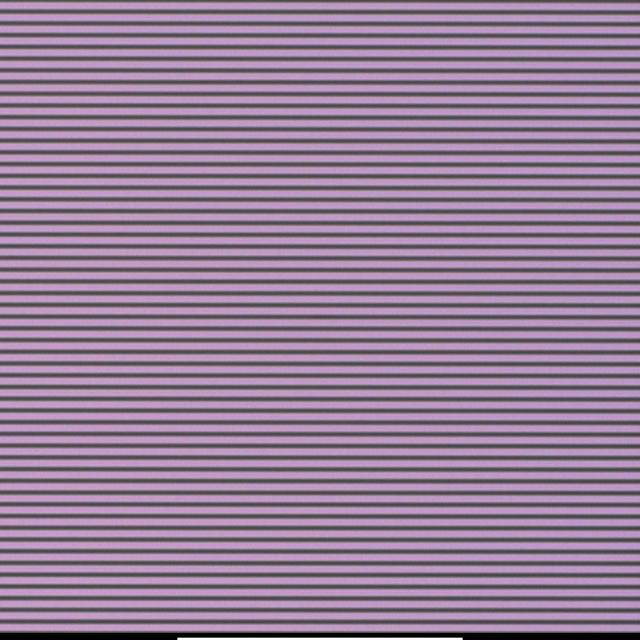nonvisual: (314, 287, 323, 298)
